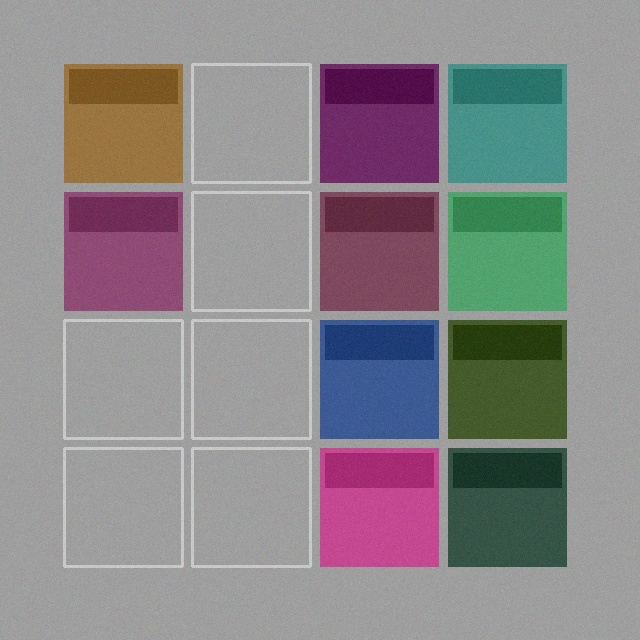space-empty: (192, 64, 310, 182), (192, 192, 310, 310), (64, 320, 182, 438), (192, 320, 310, 438), (64, 448, 182, 566), (192, 448, 310, 566)
space-occupied: (64, 64, 182, 182), (320, 64, 438, 182), (448, 64, 566, 182), (64, 192, 182, 310), (320, 192, 438, 310), (448, 192, 566, 310), (320, 320, 438, 438), (448, 320, 566, 438), (320, 448, 438, 566), (448, 448, 566, 566)
